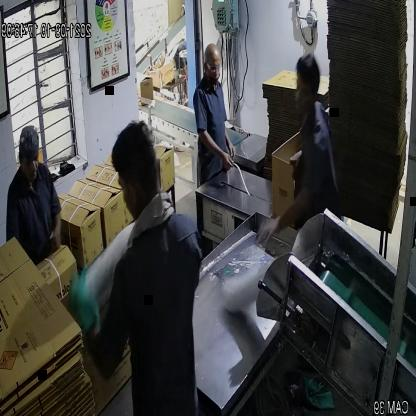glove: (64, 264, 105, 346)
no_glove: (256, 172, 322, 250), (193, 131, 238, 181)
